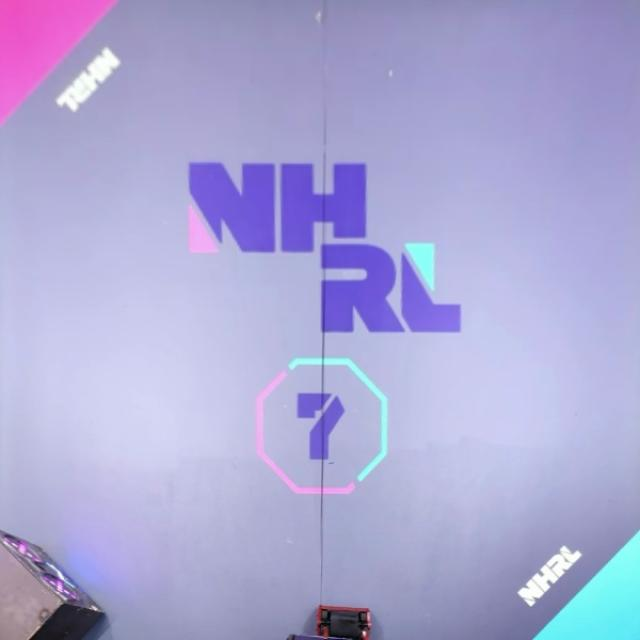housebot: (0, 529, 106, 640)
robot: (318, 605, 372, 640), (285, 632, 346, 640)
